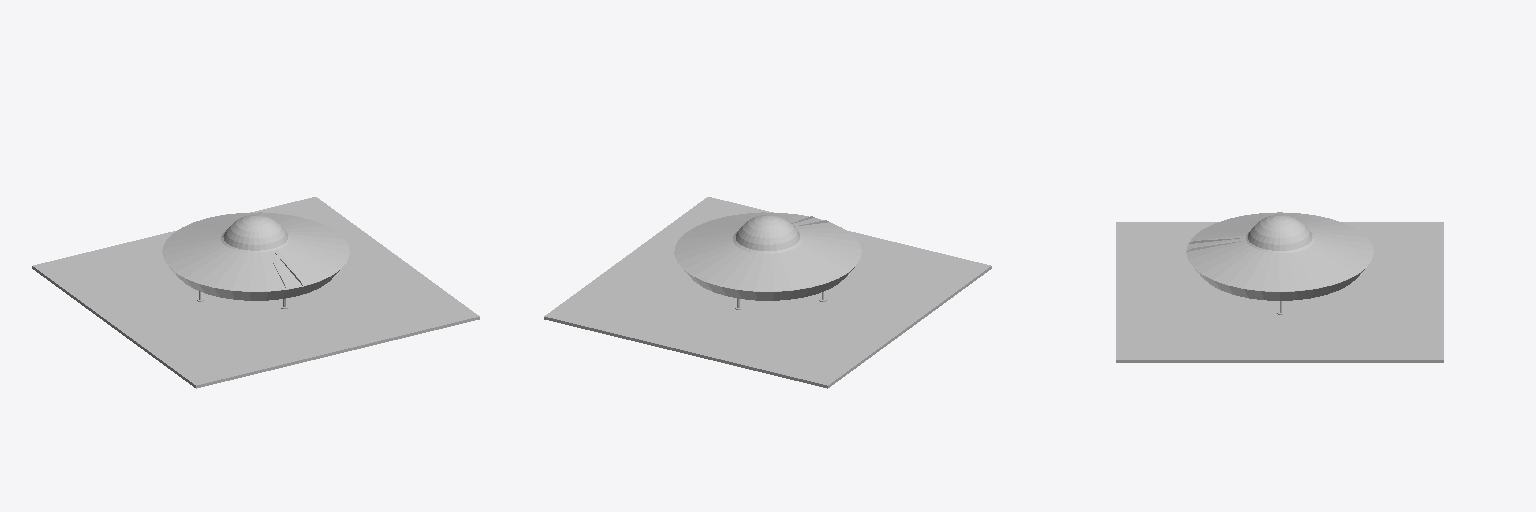
File: ufo.obj
3 views of the same model, side by side, from view 1: azimuth 30°, elevation 25°; view 2: azimuth 150°, elevation 25°; view 3: azimuth 270°, elevation 25° (orthographic).
Parts seen in each view (by area): view 1: Cube, Cylinder, Sphere, Cylinder.001; view 2: Cube, Cylinder, Sphere, Cylinder.001; view 3: Cube, Cylinder, Sphere, Cylinder.001.
Boxes of the visible parts, <box> form: Cube: <box>32,197,479,388</box>; Cylinder: <box>162,212,349,291</box>; Sphere: <box>223,215,287,250</box>; Cylinder.001: <box>163,255,349,300</box>; Cube: <box>544,197,991,388</box>; Cylinder: <box>674,212,861,291</box>; Sphere: <box>736,215,799,250</box>; Cylinder.001: <box>674,255,860,300</box>; Cube: <box>1116,222,1443,362</box>; Cylinder: <box>1186,212,1373,291</box>; Sphere: <box>1248,215,1312,250</box>; Cylinder.001: <box>1187,258,1372,300</box>.
Bounding box in the file's own units: 26.84 × 6.88 × 26.84.